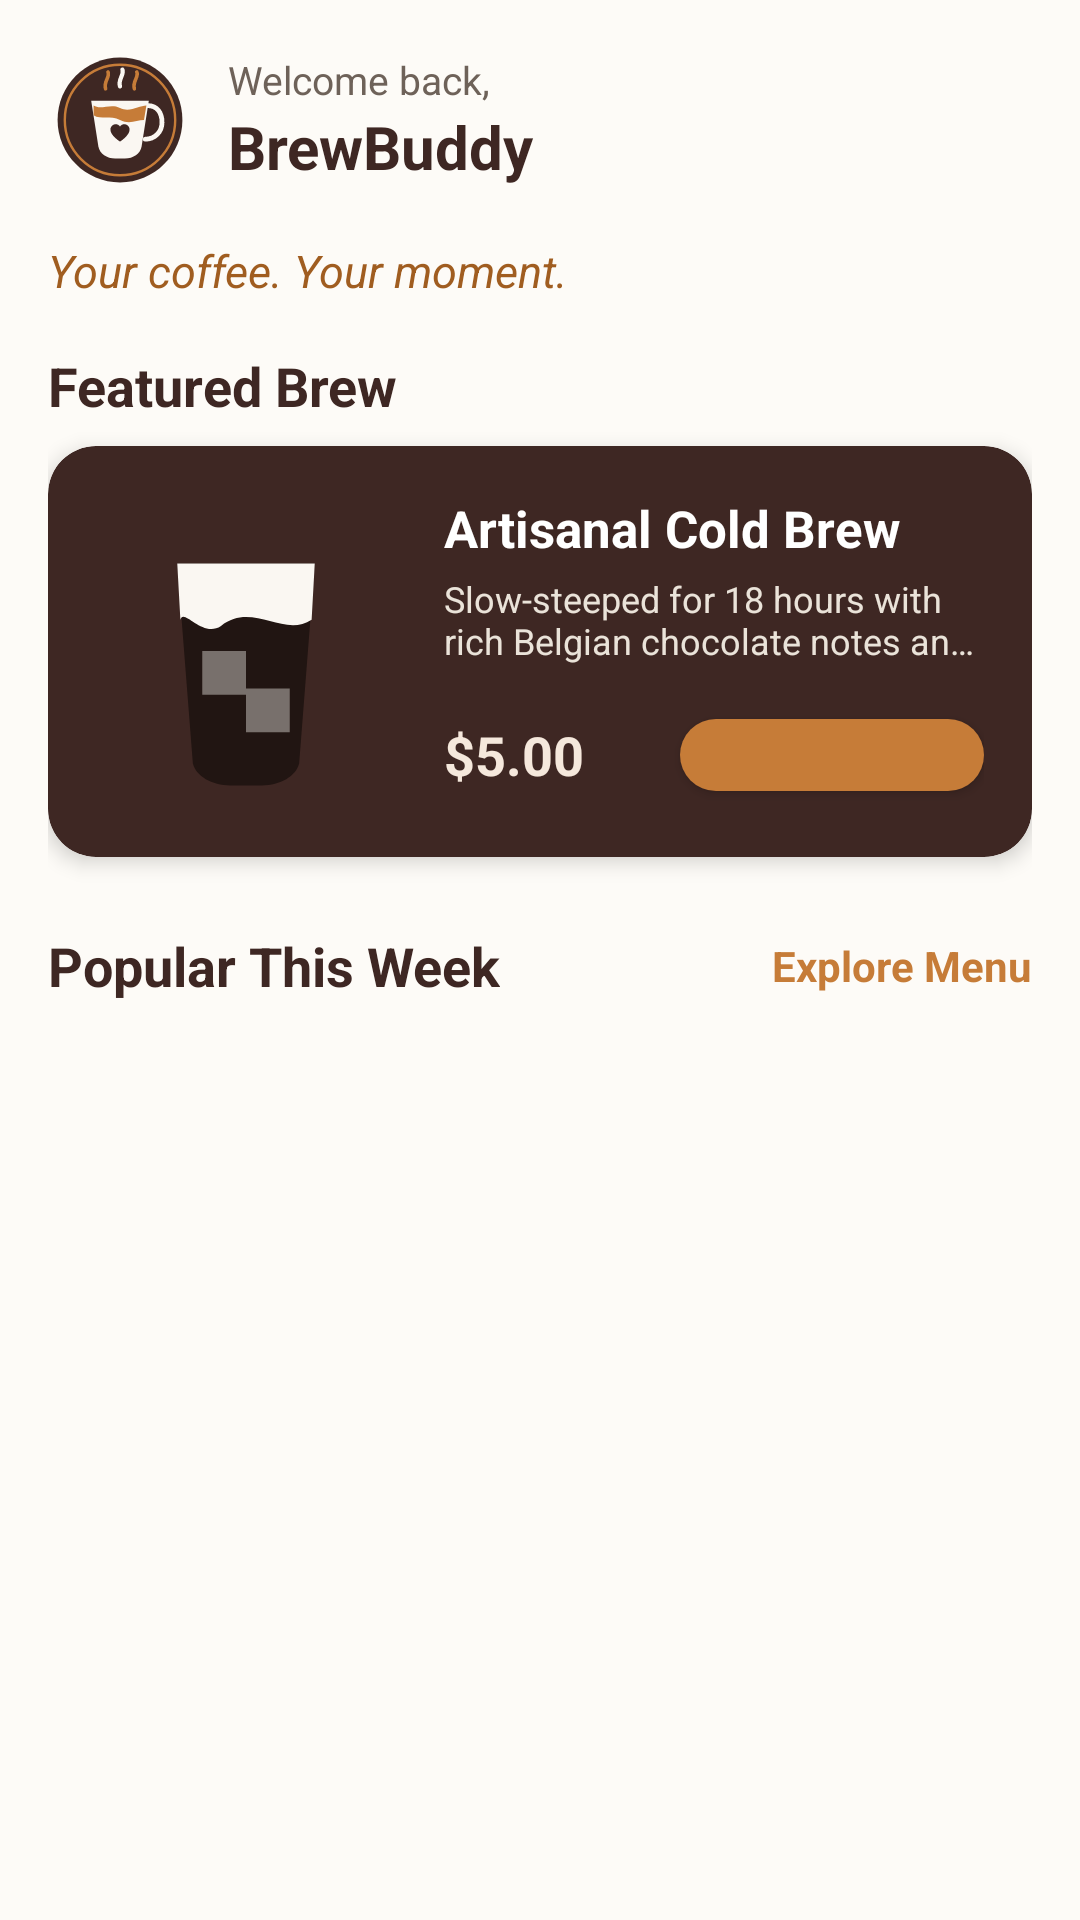

Locate icon controls on the screen. Image size 1080x1920, boxes as (x1, y1, x2, y2).
coffee cold brew: (177, 563, 315, 785)
